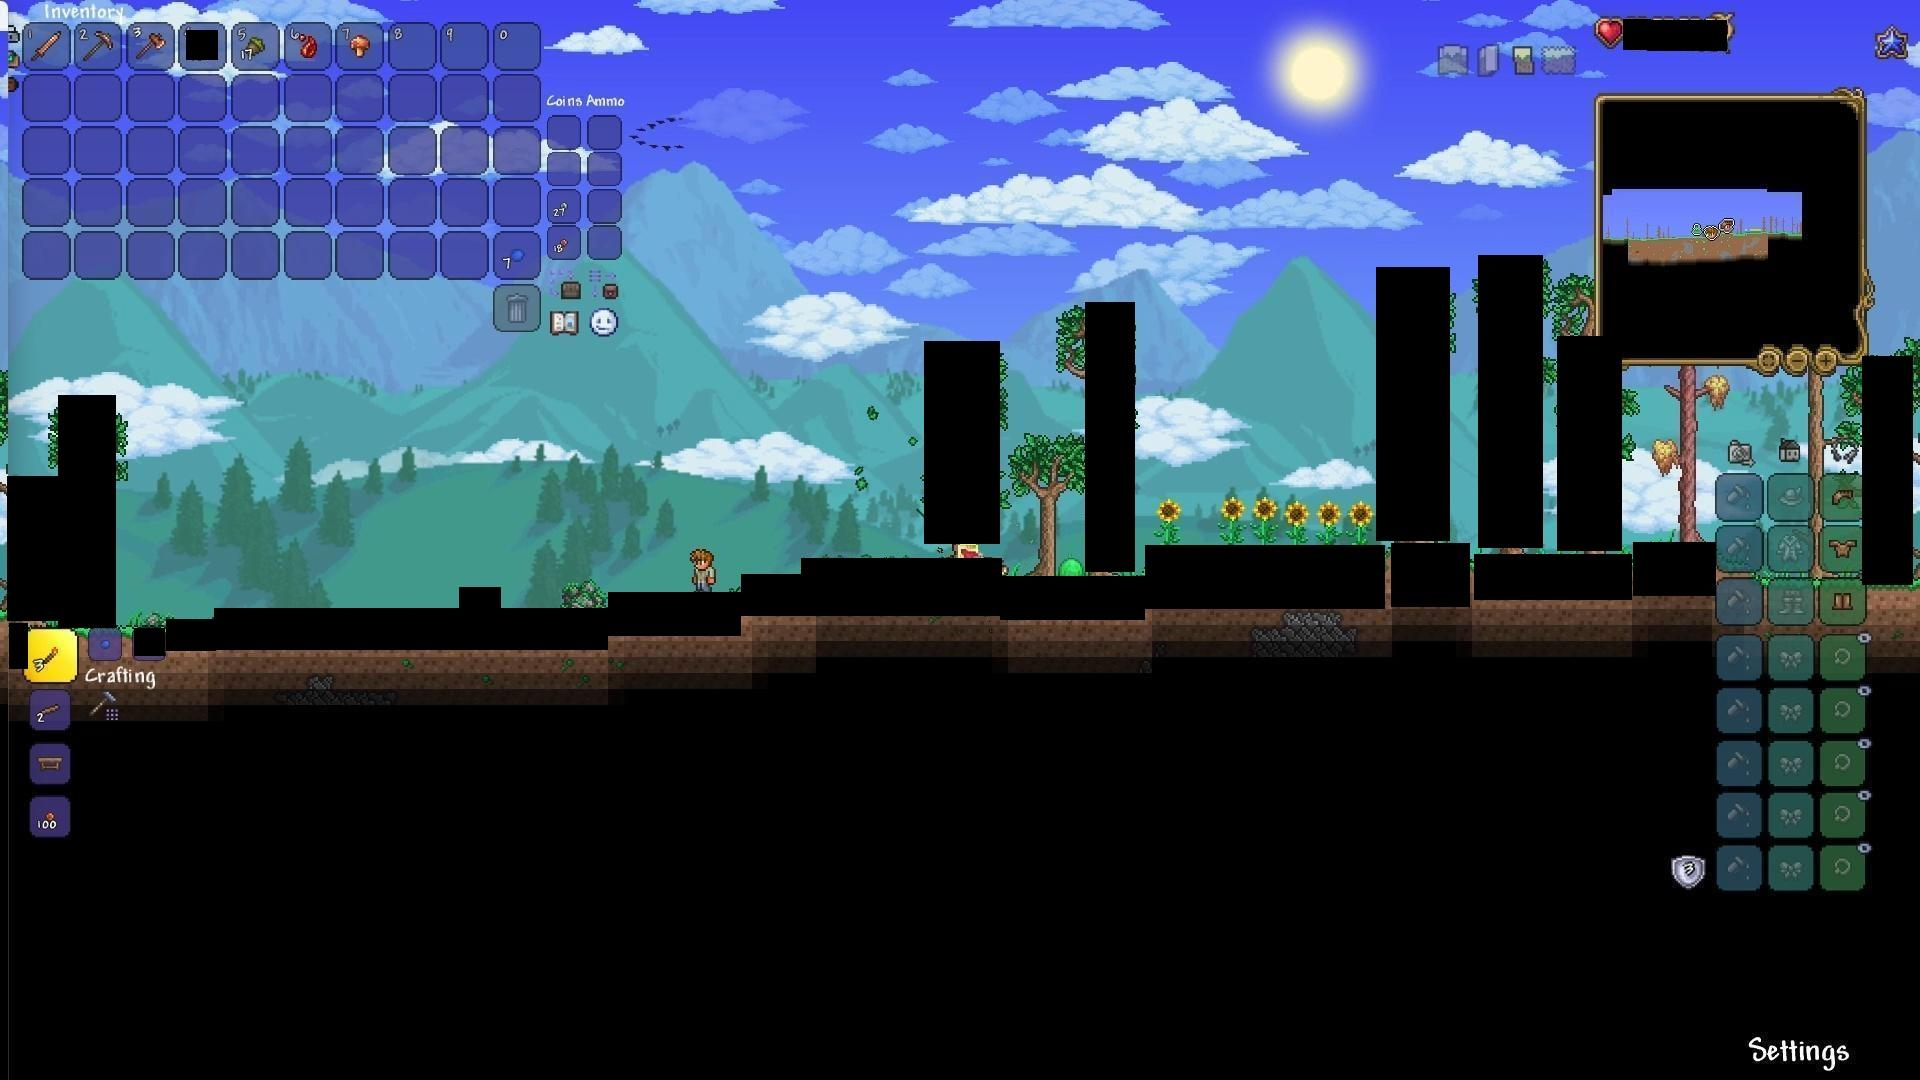breastplate: (1829, 539, 1855, 559)
heart: (1596, 18, 1623, 49)
helmet: (1829, 485, 1855, 509)
legs: (1832, 589, 1855, 616)
slime: (1054, 556, 1088, 582)
tree: (1655, 364, 1718, 541), (1006, 429, 1077, 551)
workbench: (32, 750, 69, 775)
